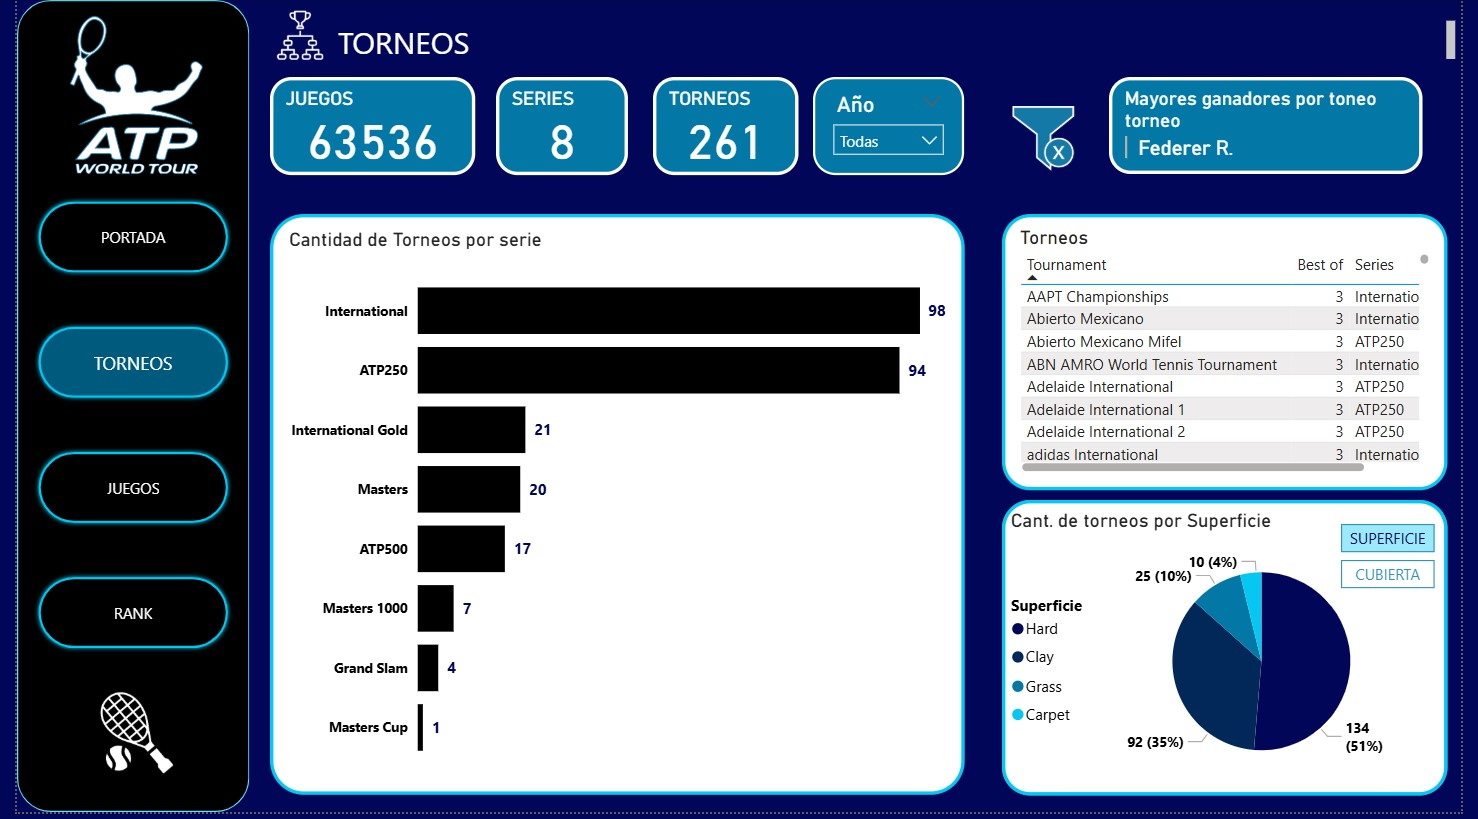

What the dashboard file says about the page in this screenshot:
{"tool":"powerbi","page":{"name":"TORNEOS","canvas":[1280,720],"ordinal":1},"visuals":[{"type":"group","id":"g1","title":"logo ","box":[0,0,214,720],"z":0},{"type":"pieChart","title":"Cant. de torneos por cubierta","fields":{"Y":["*MEDIDAS.TORNEOS"],"Category":["Court.Court"]},"box":[873,443,394.7,261.8],"z":0,"group":"g2"},{"type":"pieChart","title":"Cant. de torneos por Superficie","fields":{"Y":["*MEDIDAS.TORNEOS"],"Category":["Surface.Surface"]},"box":[873,443,395,262],"z":0,"group":"g3"},{"type":"textbox","box":[279.3,13.3,1001.1,45.2],"z":1000},{"type":"actionButton","box":[1170.5,496,86,25],"z":1000,"group":"g2"},{"type":"actionButton","box":[1174,496,83,25],"z":1000,"group":"g3"},{"type":"image","box":[214,0,74,65],"z":2000},{"type":"actionButton","box":[1170.5,464,86,25],"z":2000,"group":"g2"},{"type":"actionButton","box":[1174,464,83,25],"z":2000,"group":"g3"},{"type":"card","title":"JUEGOS","fields":{"Values":["*MEDIDAS.PLAY"]},"box":[224,68,182,87],"z":3000},{"type":"card","title":"SERIES","fields":{"Values":["*MEDIDAS.SERIES"]},"box":[425,68,117,87],"z":4000},{"type":"card","title":"TORNEOS","fields":{"Values":["*MEDIDAS.TORNEOS"]},"box":[564,68,129,87],"z":5000},{"type":"tableEx","title":"Torneos","fields":{"Values":["Tournament.Tournament","Tournament.Best of","Series.Series"]},"box":[873,190,395,245],"z":8000},{"type":"slicer","fields":{"Values":["Calendario.Año"]},"box":[706,68,134,87],"z":9000},{"type":"multiRowCard","title":"Mayores ganadores por toneo torneo","fields":{"Values":["Player.Player"]},"box":[968,68,278,86],"z":10000},{"type":"group","id":"g2","title":"CUBIERTA","box":[873,443,395,262],"z":11000},{"type":"group","id":"g3","title":"SUPERFICIE","box":[873,443,395,262],"z":12000},{"type":"shape","box":[0,0,206,720],"z":12500,"group":"g1"},{"type":"image","box":[873,85.1,74,75.9],"z":13000},{"type":"pageNavigator","box":[15,175,176,519],"z":13000,"group":"g1"},{"type":"image","box":[0,8,214,154],"z":14000,"group":"g1"},{"type":"barChart","title":"Cantidad de Torneos por serie","fields":{"Category":["Series.Series"],"Y":["CountNonNull(Tournament.Tournament)"]},"box":[224,190,616,515],"z":14000},{"type":"image","box":[36,604,134,90],"z":16000,"group":"g1"}]}

Visuals, with their boxes in screenshot pixels (x1, y1, x2, y2), scaled from the page's 1280x720 canvas onto the 1478x819 screenshot:
"logo " group: bbox=(0, 0, 247, 818)
"Cant. de torneos por cubierta" pieChart: bbox=(1008, 504, 1464, 802)
"Cant. de torneos por Superficie" pieChart: bbox=(1008, 504, 1464, 802)
textbox: bbox=(323, 15, 1477, 67)
actionButton: bbox=(1352, 564, 1451, 593)
actionButton: bbox=(1356, 564, 1451, 593)
image: bbox=(247, 0, 333, 74)
actionButton: bbox=(1352, 528, 1451, 556)
actionButton: bbox=(1356, 528, 1451, 556)
"JUEGOS" card: bbox=(259, 77, 469, 176)
"SERIES" card: bbox=(491, 77, 626, 176)
"TORNEOS" card: bbox=(651, 77, 800, 176)
"Torneos" tableEx: bbox=(1008, 216, 1464, 495)
slicer - Calendario.Año: bbox=(815, 77, 970, 176)
"Mayores ganadores por toneo torneo" multiRowCard: bbox=(1118, 77, 1439, 175)
"CUBIERTA" group: bbox=(1008, 504, 1464, 802)
"SUPERFICIE" group: bbox=(1008, 504, 1464, 802)
shape: bbox=(0, 0, 238, 818)
image: bbox=(1008, 97, 1093, 183)
pageNavigator: bbox=(17, 199, 221, 789)
image: bbox=(0, 9, 247, 184)
"Cantidad de Torneos por serie" barChart: bbox=(259, 216, 970, 802)
image: bbox=(42, 687, 196, 789)
